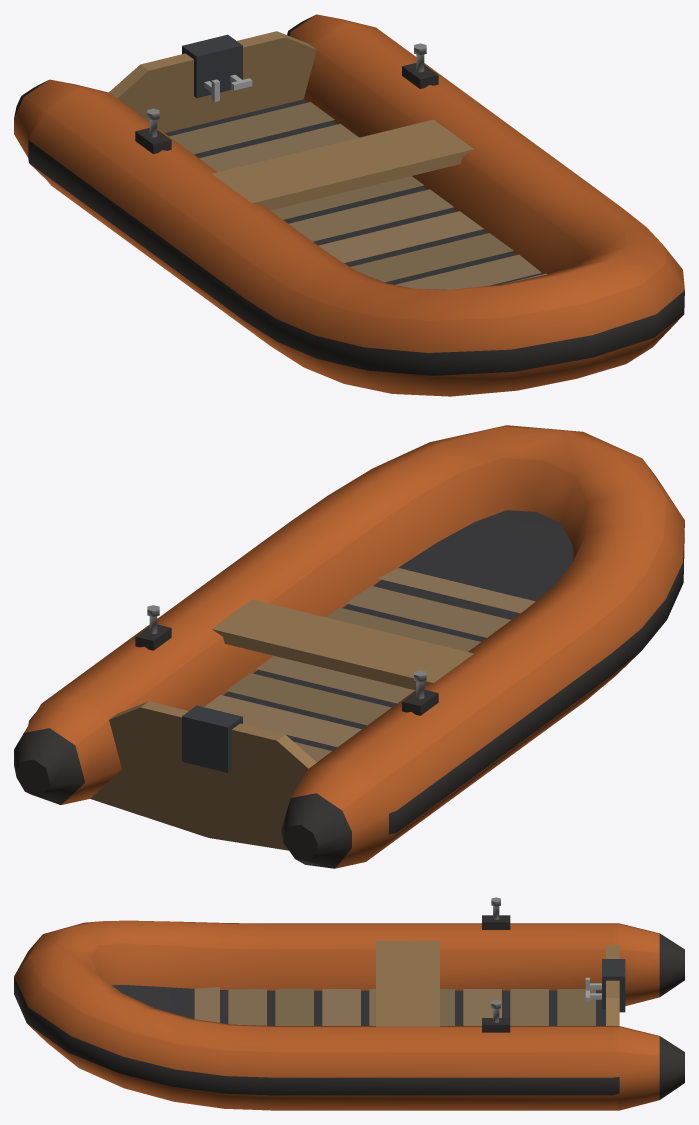
The model's file is DinghyPlain.glb.
3 renders of one model, top to bottom at view 1: azimuth 30°, elevation 25°; view 2: azimuth 150°, elevation 25°; view 3: azimuth 270°, elevation 25°, orthographic. The views are drawn at different scales.
Parts seen in each view (by area): view 1: DinghyPlain; view 2: DinghyPlain; view 3: DinghyPlain.
Part boxes in pixels (x1=…): DinghyPlain: x1=14, y1=14, x2=684, y2=396; DinghyPlain: x1=14, y1=425, x2=684, y2=868; DinghyPlain: x1=14, y1=897, x2=684, y2=1110.
Bounding box in the file's own units: 3.99 × 1.52 × 7.99.
